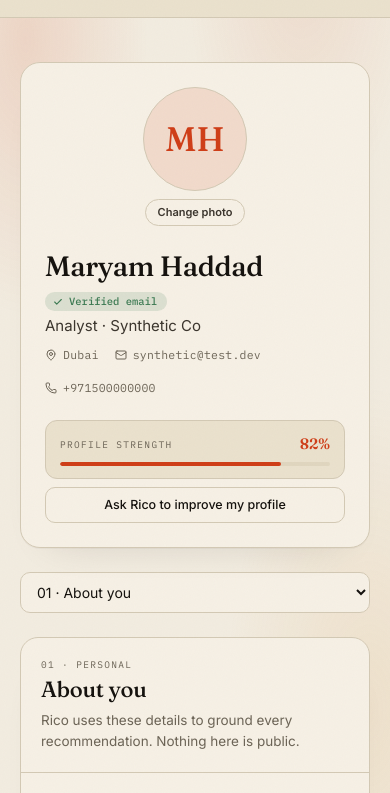
Test: profile editorial — real-data rendering › shows an explicit unavailable state (never 'Free') when the subscription request fails
Expected: the heading "Maryam Haddad" is shown, [45, 250, 263, 282]
Step 1. Select "08 · Billing" in the dropdown named "Sections" → [195, 592], box [20, 572, 370, 613]
(page scrolled)
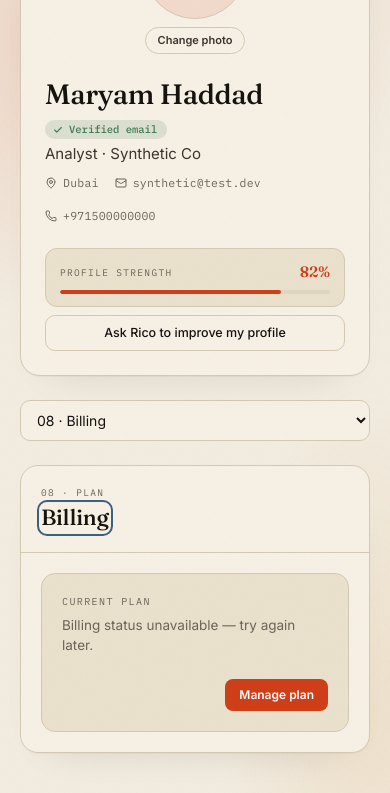
Expected: the text "Billing status unavailable — try again later." is shown, [62, 615, 328, 655]
